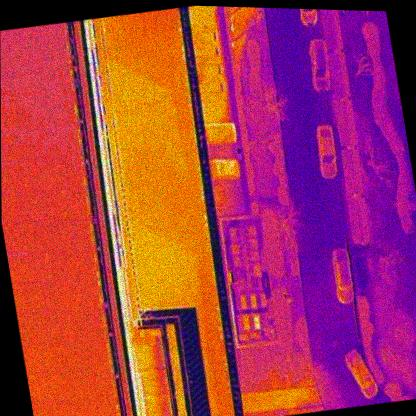Diode: (78, 214, 96, 249), (94, 338, 113, 371), (62, 93, 80, 127), (74, 185, 91, 218), (91, 306, 107, 338)
Hotspot: (86, 275, 104, 309), (19, 219, 37, 252), (51, 187, 69, 220), (11, 159, 29, 192), (53, 34, 71, 66), (99, 367, 117, 399), (82, 248, 99, 279), (36, 250, 52, 281), (71, 156, 86, 187), (1, 128, 13, 163), (103, 395, 121, 416)
Normal: (71, 337, 90, 374), (43, 308, 62, 345), (52, 367, 72, 402), (19, 309, 38, 345), (55, 307, 74, 342), (34, 64, 53, 99), (41, 127, 61, 160), (23, 64, 41, 100), (82, 337, 101, 371), (54, 125, 73, 159), (47, 248, 65, 283), (11, 250, 29, 285), (67, 216, 85, 251), (64, 367, 82, 402), (62, 186, 81, 219), (25, 340, 43, 374), (32, 309, 50, 343), (27, 279, 45, 313), (24, 250, 42, 284), (35, 157, 53, 191), (28, 370, 46, 404), (16, 281, 34, 314), (60, 249, 78, 282), (43, 219, 61, 252), (15, 189, 33, 222), (39, 97, 57, 130), (47, 63, 65, 96), (55, 217, 72, 251), (75, 278, 93, 310), (60, 340, 77, 373), (51, 277, 68, 310), (32, 219, 49, 252), (3, 99, 20, 132), (27, 189, 45, 220), (39, 188, 56, 220), (3, 190, 20, 222), (58, 156, 75, 188), (31, 127, 48, 159), (19, 129, 36, 161), (27, 98, 44, 130), (88, 368, 105, 400), (68, 308, 84, 341), (12, 68, 28, 101), (41, 370, 57, 403), (79, 308, 96, 339), (8, 222, 25, 253), (32, 37, 49, 68), (43, 34, 60, 65), (77, 370, 94, 401), (64, 279, 80, 311), (72, 249, 88, 281), (8, 130, 24, 162), (16, 99, 32, 131), (1, 70, 17, 102), (8, 40, 25, 70), (40, 281, 56, 312), (23, 159, 39, 190), (51, 96, 67, 127), (59, 64, 75, 95), (20, 39, 37, 68), (49, 342, 65, 372), (1, 160, 16, 192), (0, 40, 15, 72), (48, 157, 63, 188), (66, 125, 81, 156), (38, 342, 53, 372), (92, 397, 112, 416), (82, 397, 100, 416), (69, 398, 87, 416), (46, 398, 64, 416), (34, 398, 52, 416), (57, 399, 76, 416), (1, 102, 7, 132), (1, 69, 5, 103)
